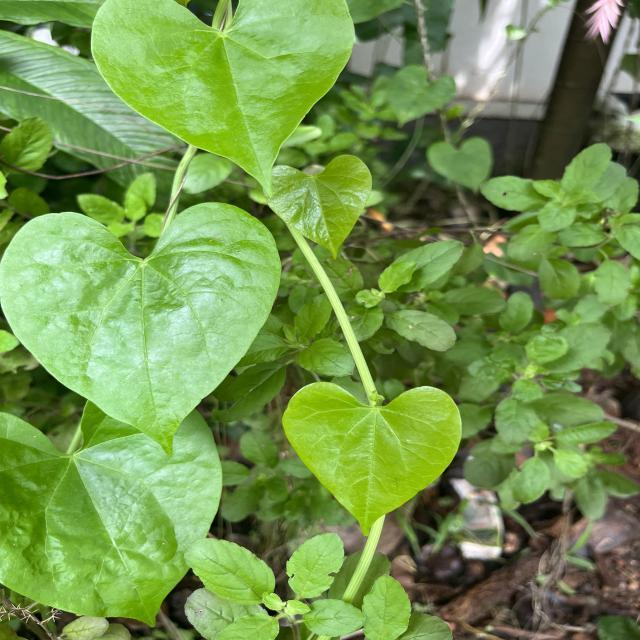Tinospora cordifolia: (2, 195, 286, 460), (0, 381, 228, 630), (85, 0, 363, 204), (280, 377, 464, 540)
